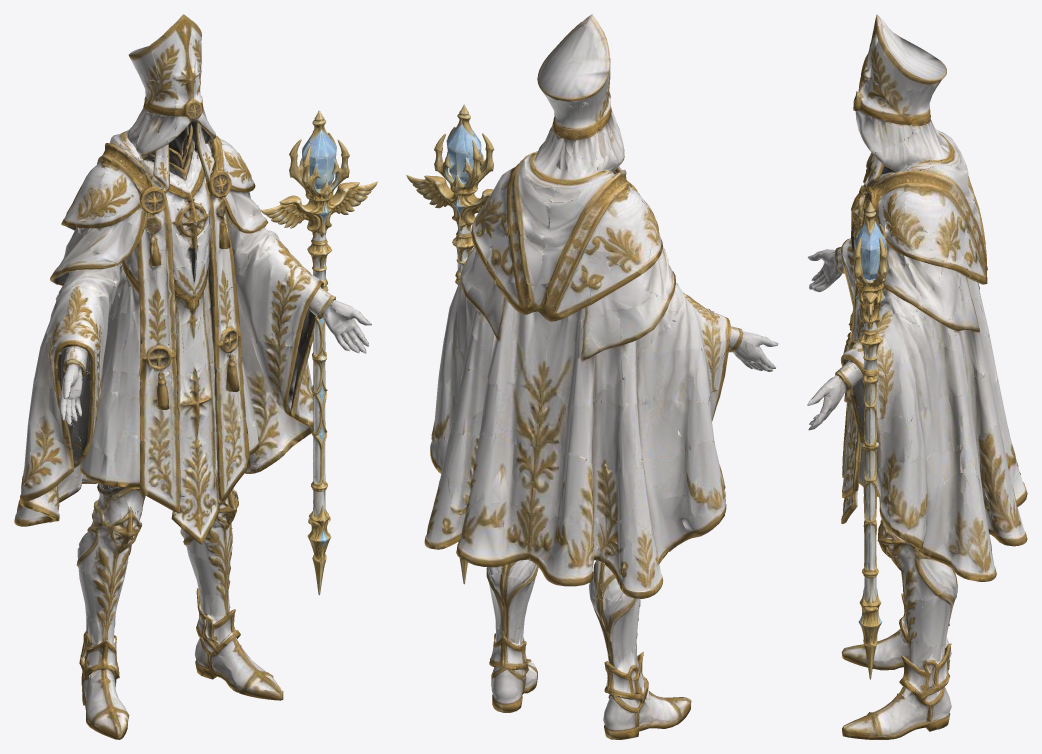
Rendered from white_bishop_armed.glb.
3 renders of one model, left to right at view 1: azimuth 30°, elevation 25°; view 2: azimuth 150°, elevation 25°; view 3: azimuth 270°, elevation 25°, orthographic.
Visible parts, largest first — view 1: White_Bishop, Bishop_Staff; view 2: White_Bishop, Bishop_Staff; view 3: White_Bishop, Bishop_Staff.
Boxes of the visible parts, bbox=[...] form: White_Bishop: bbox=[14, 14, 371, 739]; Bishop_Staff: bbox=[260, 110, 377, 595]; White_Bishop: bbox=[424, 14, 778, 739]; Bishop_Staff: bbox=[406, 104, 494, 584]; White_Bishop: bbox=[807, 14, 1027, 739]; Bishop_Staff: bbox=[853, 202, 887, 679].
Bounding box in the file's own units: 0.9901 × 1.9 × 0.5561.
Materials: 2 (2 with a texture image).
